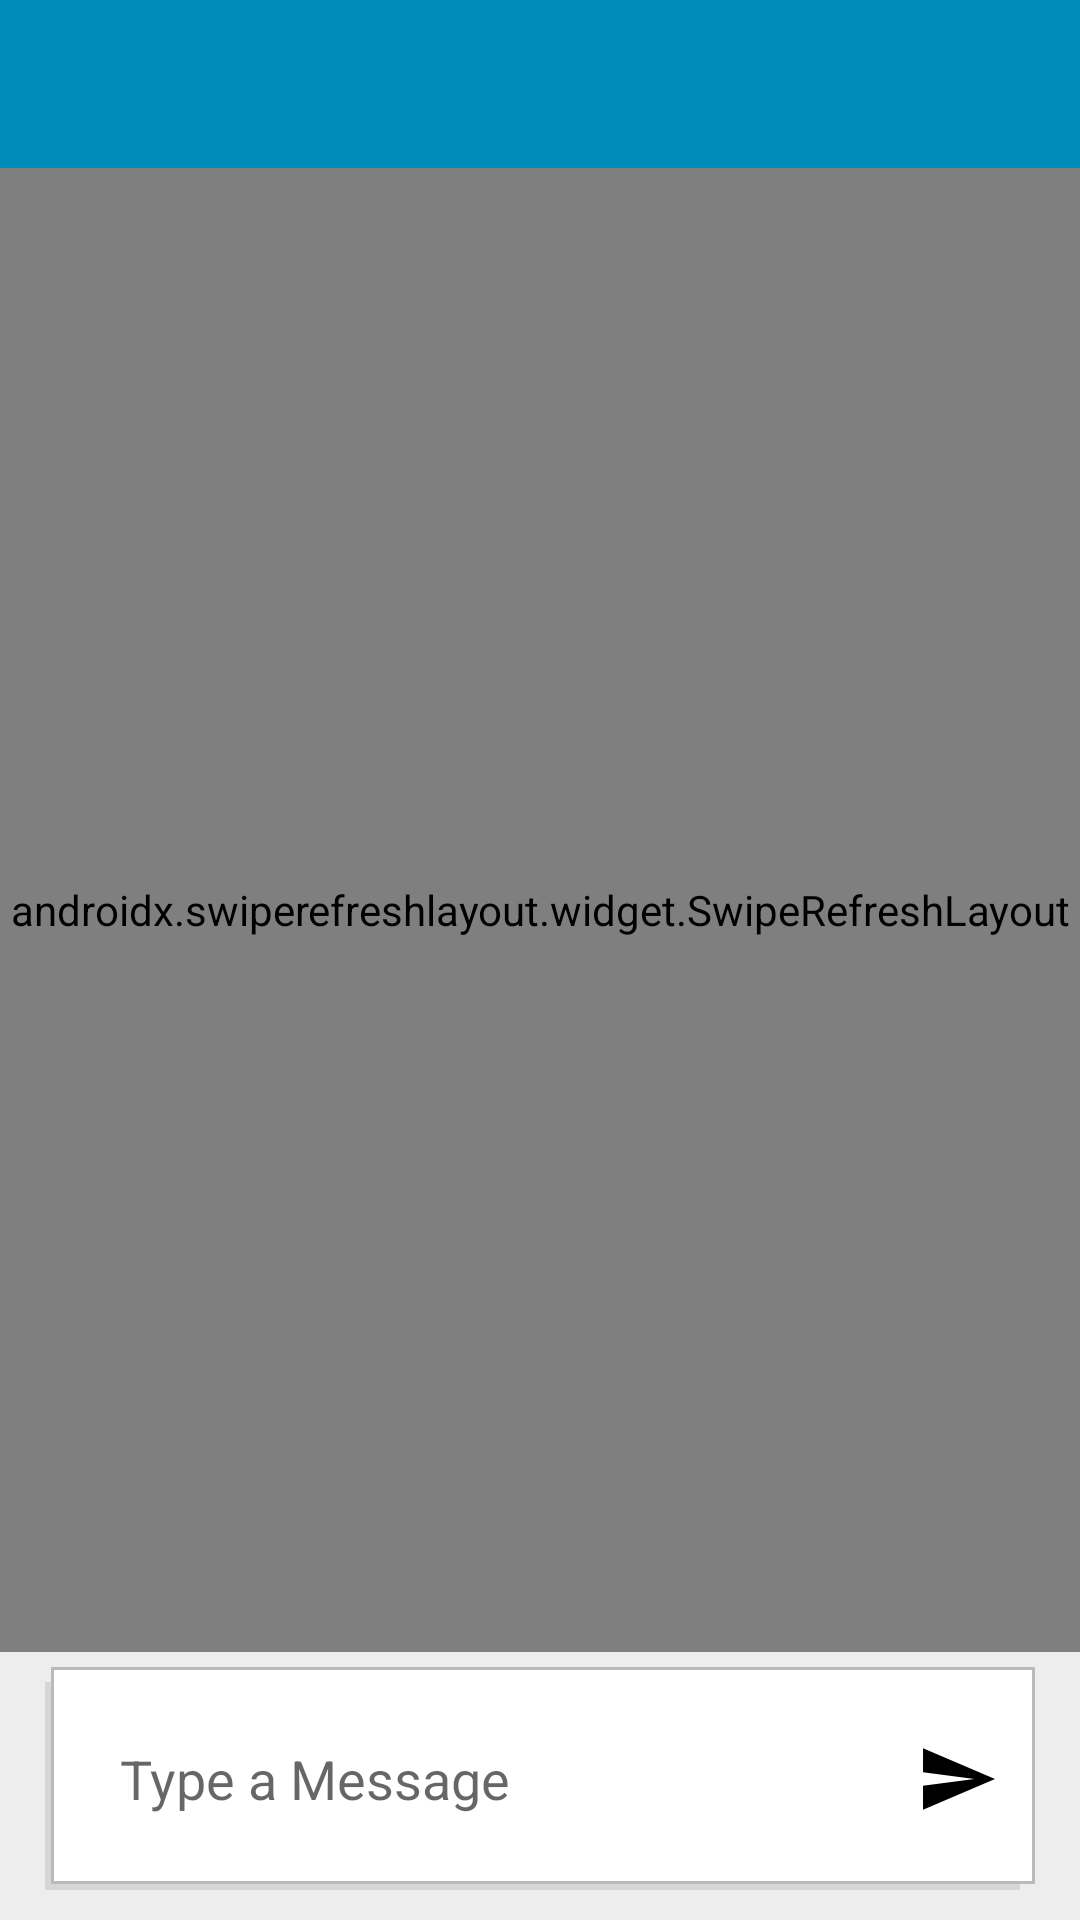

Icons on this 1080 x 1920 Android screen, each with the point to tap as (x,y):
send: (959,1779)
